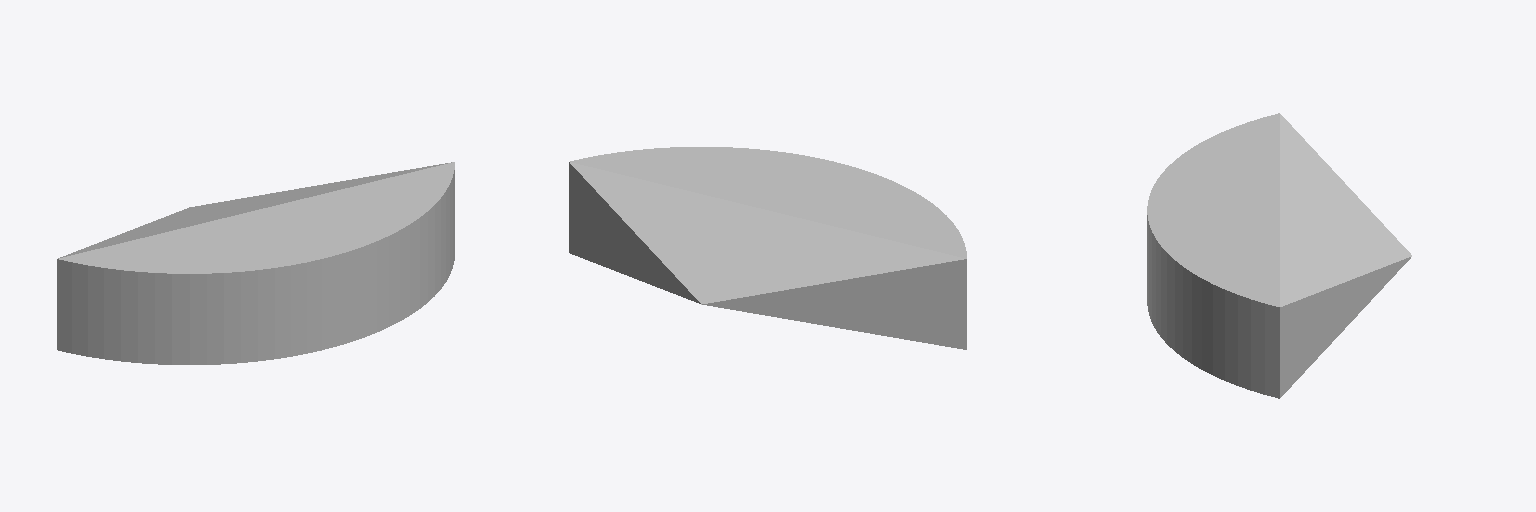
Rendered from RadarBeam.obj.
3 views of the same model, side by side, from view 1: azimuth 30°, elevation 25°; view 2: azimuth 150°, elevation 25°; view 3: azimuth 270°, elevation 25° (orthographic).
Visible parts, largest first — view 1: Triangle.001; view 2: Triangle.001; view 3: Triangle.001.
Boxes of the visible parts, <box> form: Triangle.001: <box>57,162,454,364</box>; Triangle.001: <box>569,147,966,349</box>; Triangle.001: <box>1147,113,1411,398</box>.
Bounding box in the file's own units: 913 × 200 × 527.